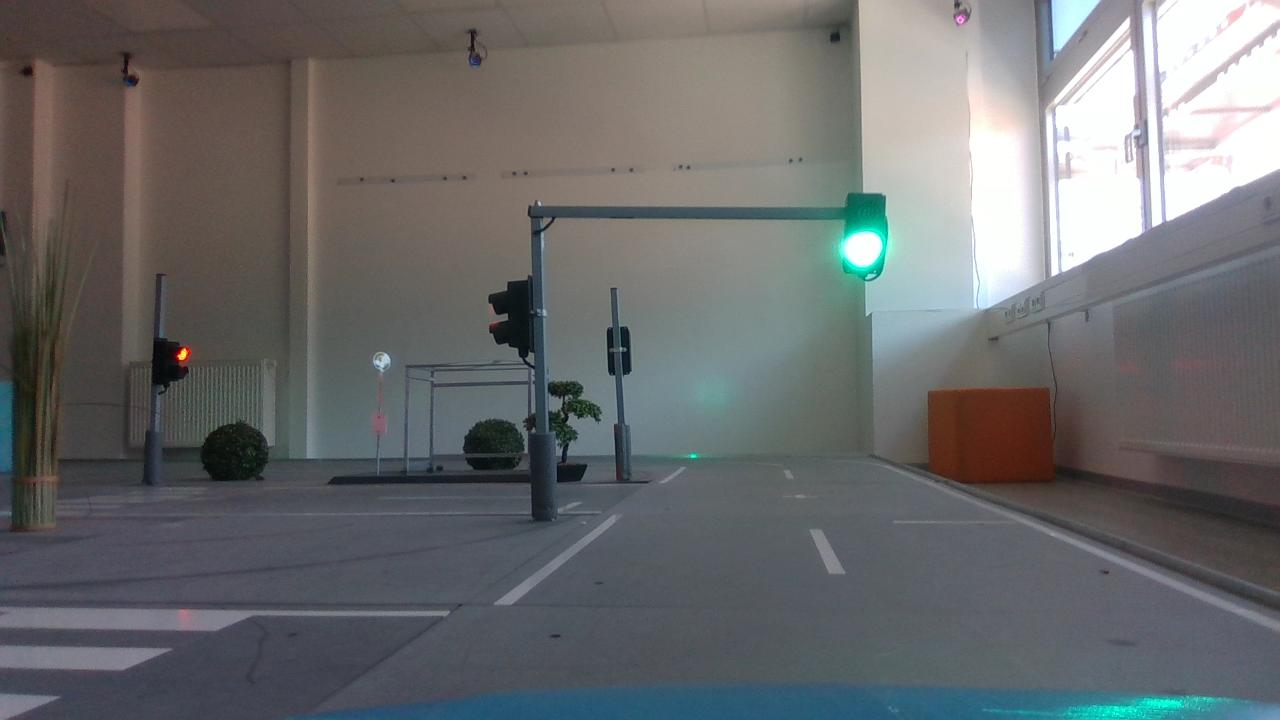traffic_light_green: (826, 176, 901, 288)
